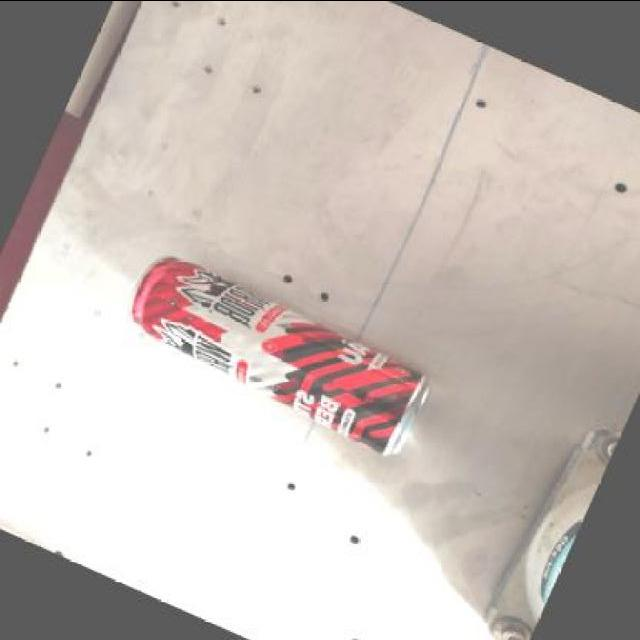can: (102, 234, 455, 476)
